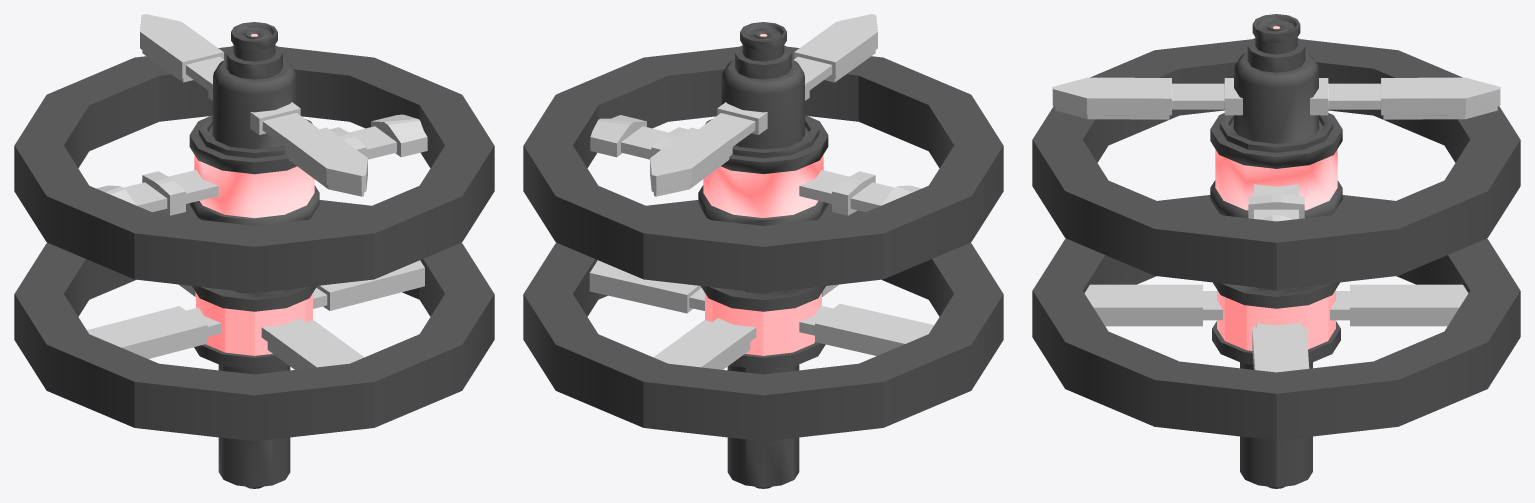
Rendered from Space_Station_Prototype.fbx.
3 renders of one model, left to right at view 1: azimuth 30°, elevation 25°; view 2: azimuth 150°, elevation 25°; view 3: azimuth 270°, elevation 25°, orthographic.
Parts seen in each view (by area): view 1: Cylinder, Base_Space_Station, Obstacle_Y, Lower_Platform_X, Upper_Platform_X, Lower_Platform_Y; view 2: Cylinder, Base_Space_Station, Obstacle_Y, Lower_Platform_X, Upper_Platform_X, Lower_Platform_Y; view 3: Cylinder, Base_Space_Station, Obstacle_Y, Lower_Platform_Y, Lower_Platform_X, Upper_Platform_X.
Part boxes in pixels (x1=…): Cylinder: x1=14, y1=46, x2=494, y2=441; Base_Space_Station: x1=189, y1=22, x2=319, y2=488; Obstacle_Y: x1=140, y1=14, x2=367, y2=196; Lower_Platform_X: x1=87, y1=260, x2=424, y2=358; Upper_Platform_X: x1=96, y1=114, x2=427, y2=215; Lower_Platform_Y: x1=178, y1=284, x2=364, y2=369; Cylinder: x1=523, y1=46, x2=1003, y2=441; Base_Space_Station: x1=698, y1=22, x2=828, y2=488; Obstacle_Y: x1=650, y1=14, x2=877, y2=196; Lower_Platform_X: x1=589, y1=260, x2=934, y2=355; Upper_Platform_X: x1=590, y1=115, x2=921, y2=215; Lower_Platform_Y: x1=653, y1=284, x2=839, y2=369; Cylinder: x1=1032, y1=39, x2=1520, y2=440; Base_Space_Station: x1=1210, y1=14, x2=1342, y2=488; Obstacle_Y: x1=1052, y1=77, x2=1500, y2=119; Lower_Platform_Y: x1=1084, y1=284, x2=1468, y2=326; Lower_Platform_X: x1=1252, y1=322, x2=1309, y2=372; Upper_Platform_X: x1=1248, y1=184, x2=1304, y2=221.
Size of the model in its own units: 1805 by 1878 by 1805.
